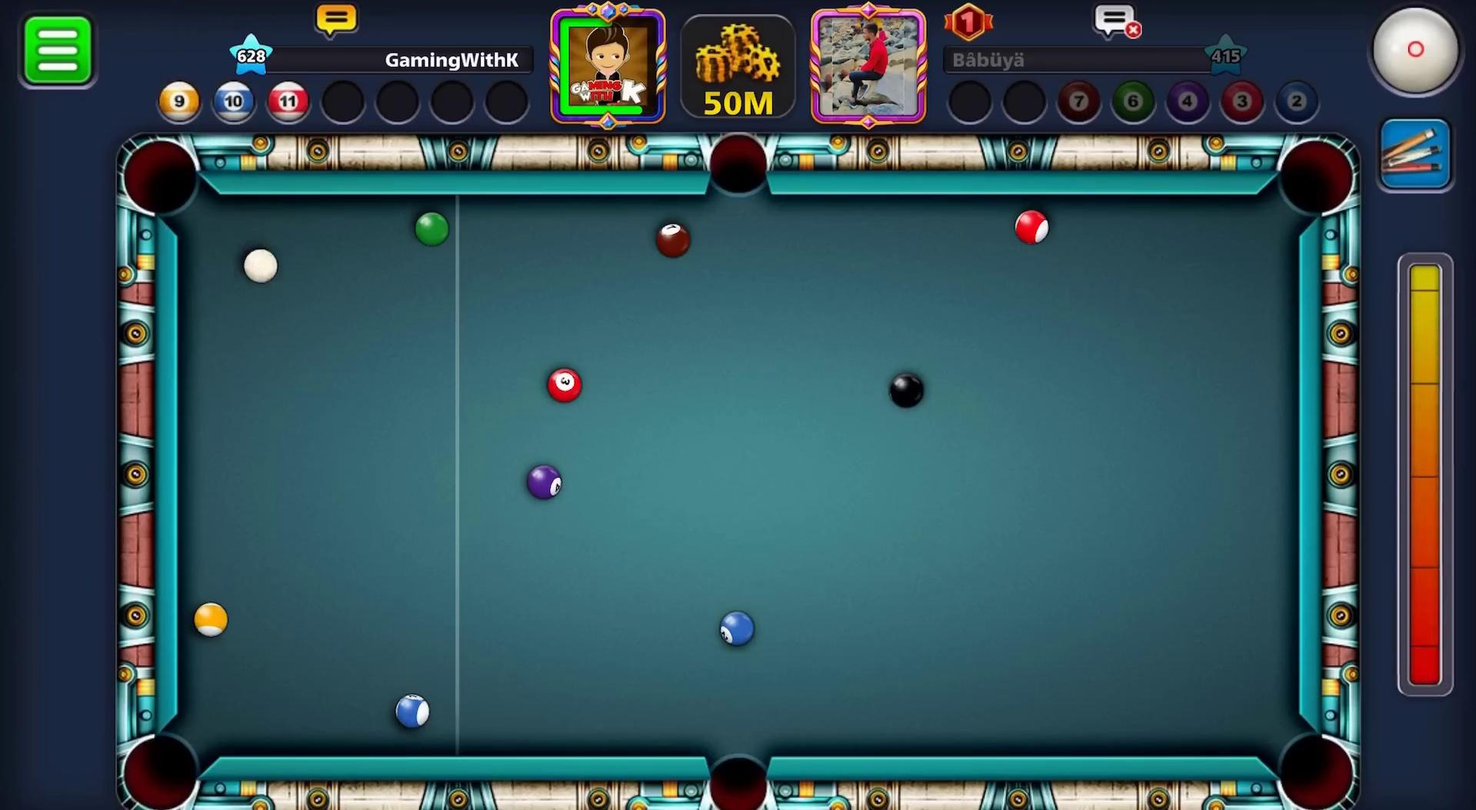Ball: (515, 455, 572, 507), (538, 358, 587, 411), (388, 691, 435, 735), (883, 369, 929, 413), (1008, 205, 1054, 249), (714, 607, 757, 654), (647, 218, 695, 260), (189, 599, 232, 642), (408, 210, 450, 249)
Force: (1392, 250, 1462, 701)
Hole: (110, 123, 218, 235), (1253, 706, 1370, 809), (102, 718, 220, 809), (1264, 126, 1364, 231), (701, 120, 786, 218), (690, 730, 783, 809)
Play_Area: (178, 195, 1294, 758)
Spin: (1361, 0, 1475, 111)
White: (236, 244, 284, 287)
